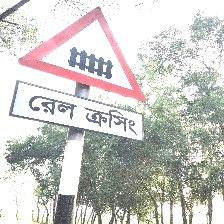Rail-crossing: (11, 5, 148, 143)
